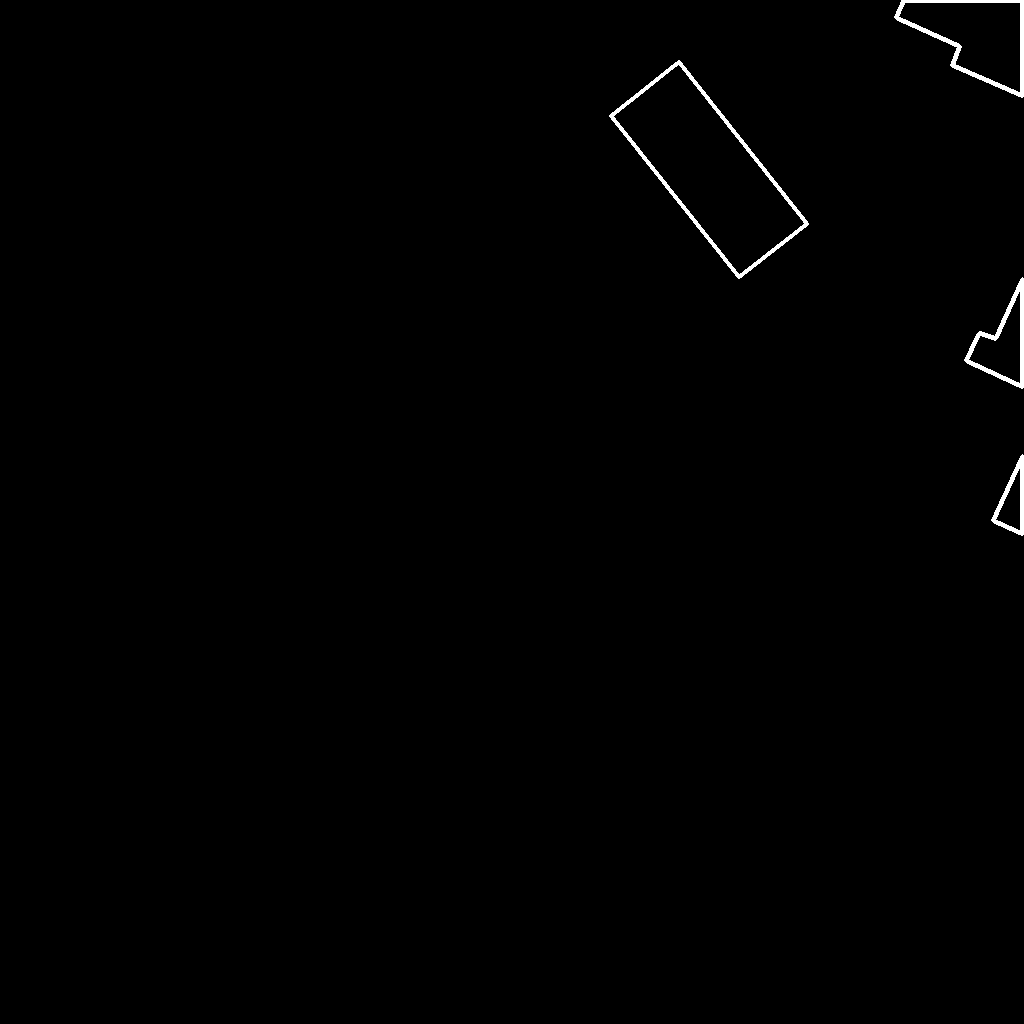building: (611, 62, 808, 278), (966, 278, 1024, 535), (896, 0, 1024, 97)
